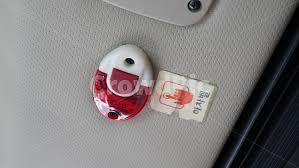bell: (91, 44, 156, 123)
